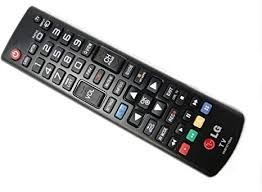remote control: (0, 5, 262, 192)
